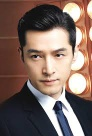male: (10, 3, 81, 99)
